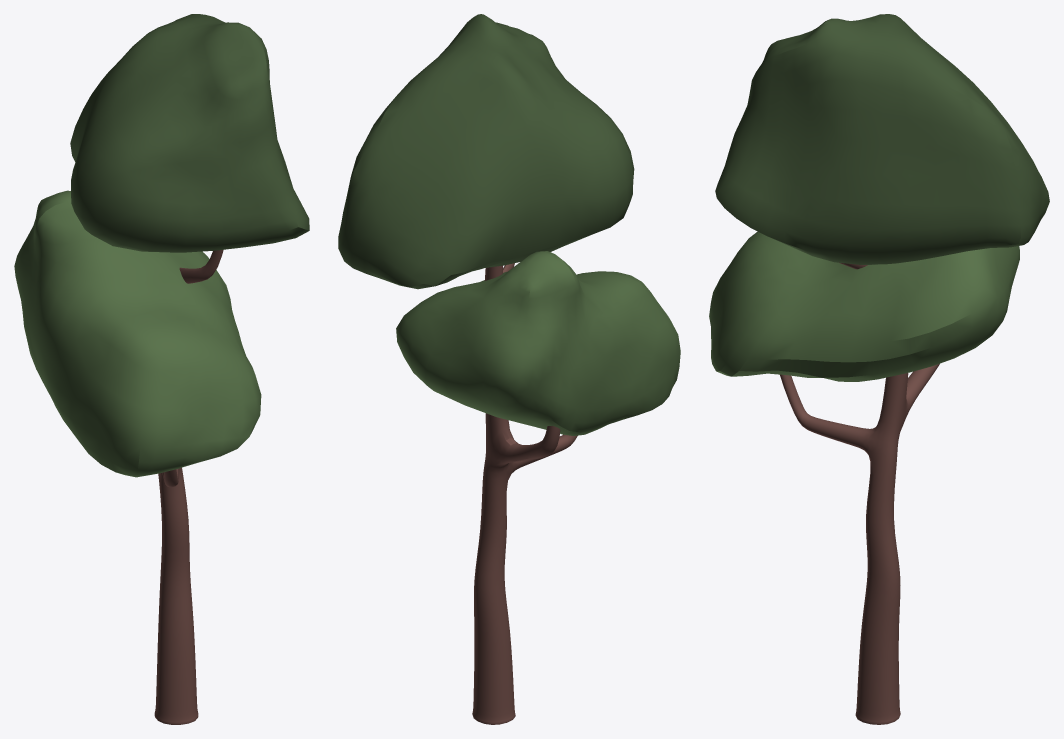
File: Tree_3.fbx
3 renders of one model, left to right at view 1: azimuth 30°, elevation 25°; view 2: azimuth 150°, elevation 25°; view 3: azimuth 270°, elevation 25°, orthographic. The views are drawn at different scales.
Parts seen in each view (by area): view 1: CommonTree_3; view 2: CommonTree_3; view 3: CommonTree_3.
Boxes of the visible parts, x1,y1,x2,y2 form: CommonTree_3: [14, 14, 309, 724]; CommonTree_3: [338, 14, 680, 724]; CommonTree_3: [709, 14, 1049, 724].
Bounding box in the file's own units: 120 × 343 × 148.
